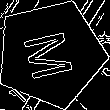M_E: (20, 25, 81, 82)
